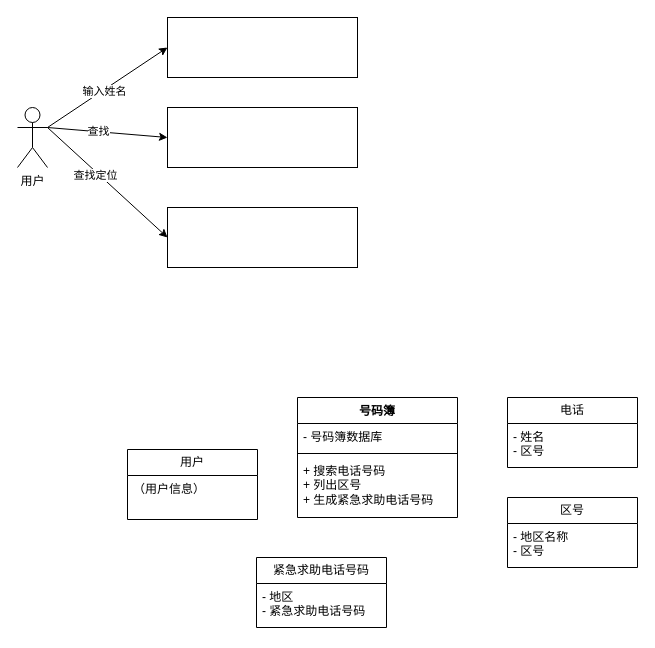
The diagram is 655 pixels wide and 648 high, and some of its shapes have lost their labels. Each missing label, with the centre of its shape:
"列出国家不同地区的区号" belongs at pixel 262 137.
"根据姓名查找电话号码" belongs at pixel 262 47.
"给出所在地区的紧急求救电话号码" belongs at pixel 262 237.
